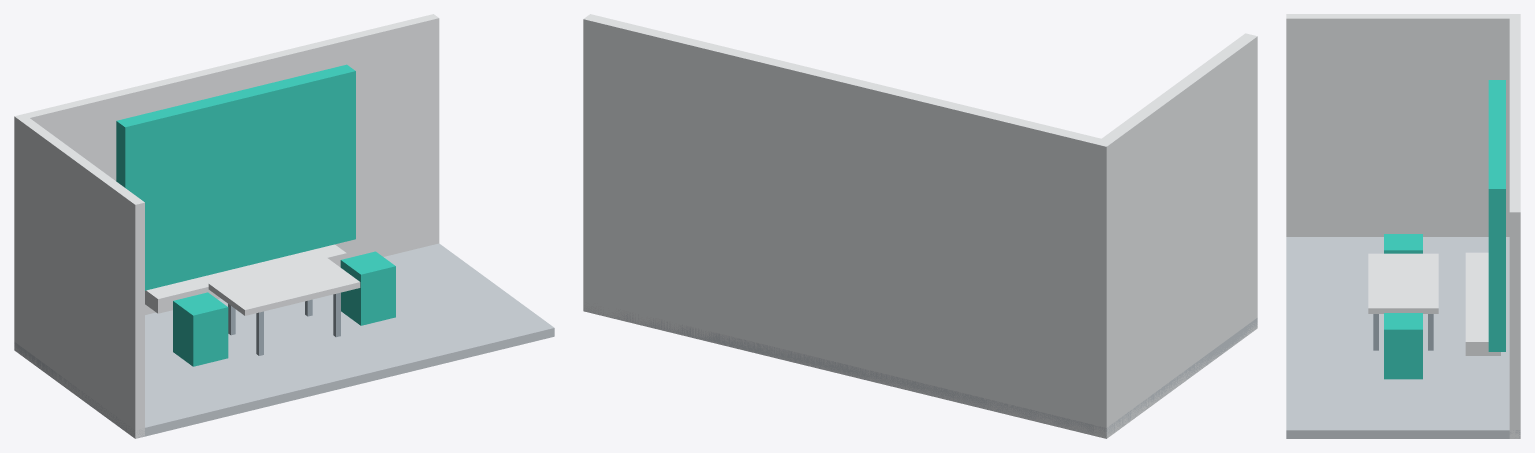
3 renders of one model, left to right at view 1: azimuth 30°, elevation 25°; view 2: azimuth 150°, elevation 25°; view 3: azimuth 270°, elevation 25°, orthographic. The views are drawn at different scales.
Parts seen in each view (by area): view 1: Exhibition Booth Concept; view 2: Exhibition Booth Concept; view 3: Exhibition Booth Concept.
Part boxes in pixels (x1,y1,x2,y2): Exhibition Booth Concept: (14, 14, 554, 438); Exhibition Booth Concept: (583, 14, 1257, 438); Exhibition Booth Concept: (1286, 14, 1520, 438).
Bounding box in the file's own units: 6 × 3.2 × 3.
